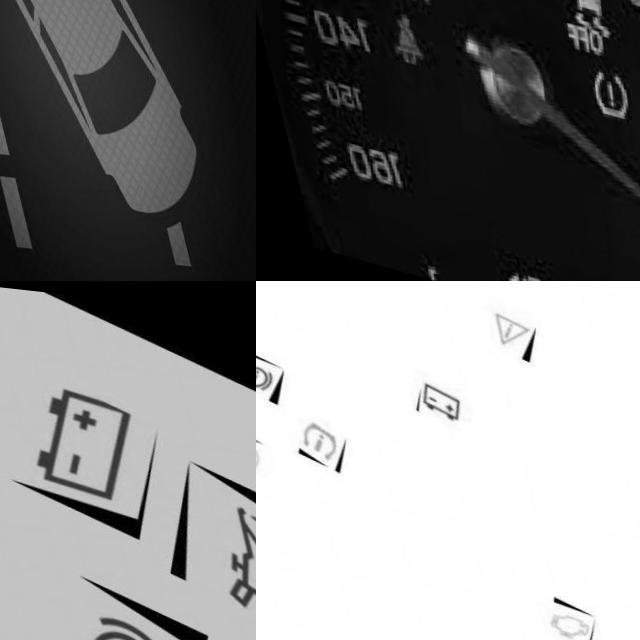Seat Belt: (370, 9, 413, 66)
